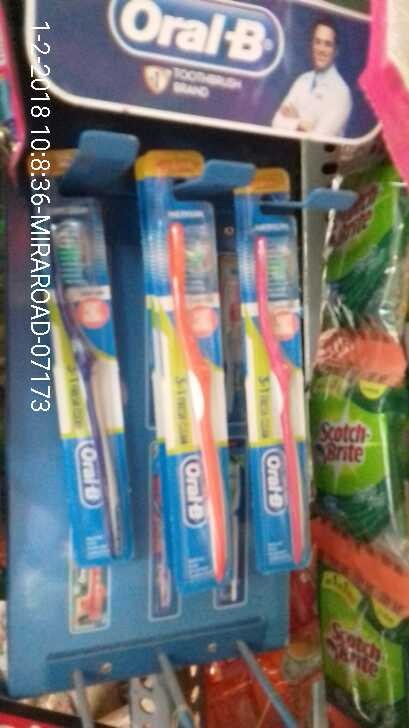oralb: (28, 208, 136, 549), (160, 205, 239, 589), (240, 225, 322, 575)
